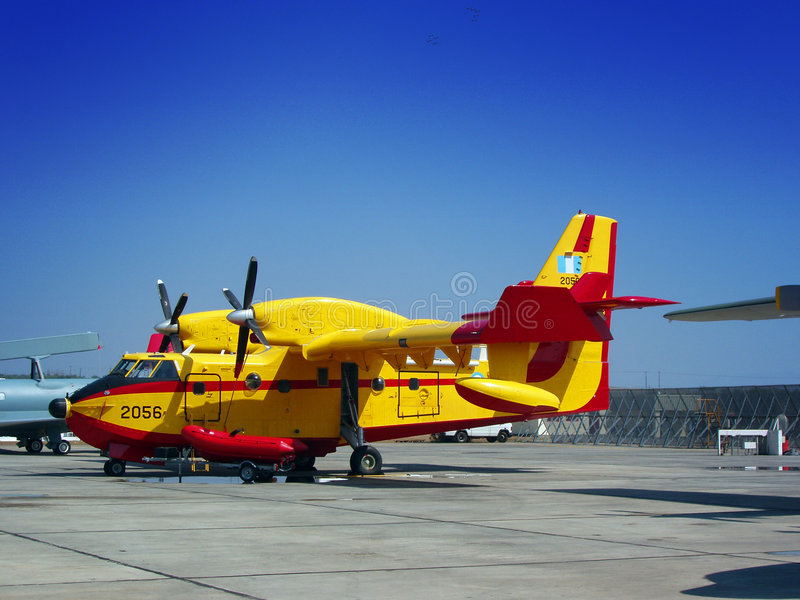Aeronef_de_service: (38, 204, 689, 488)
